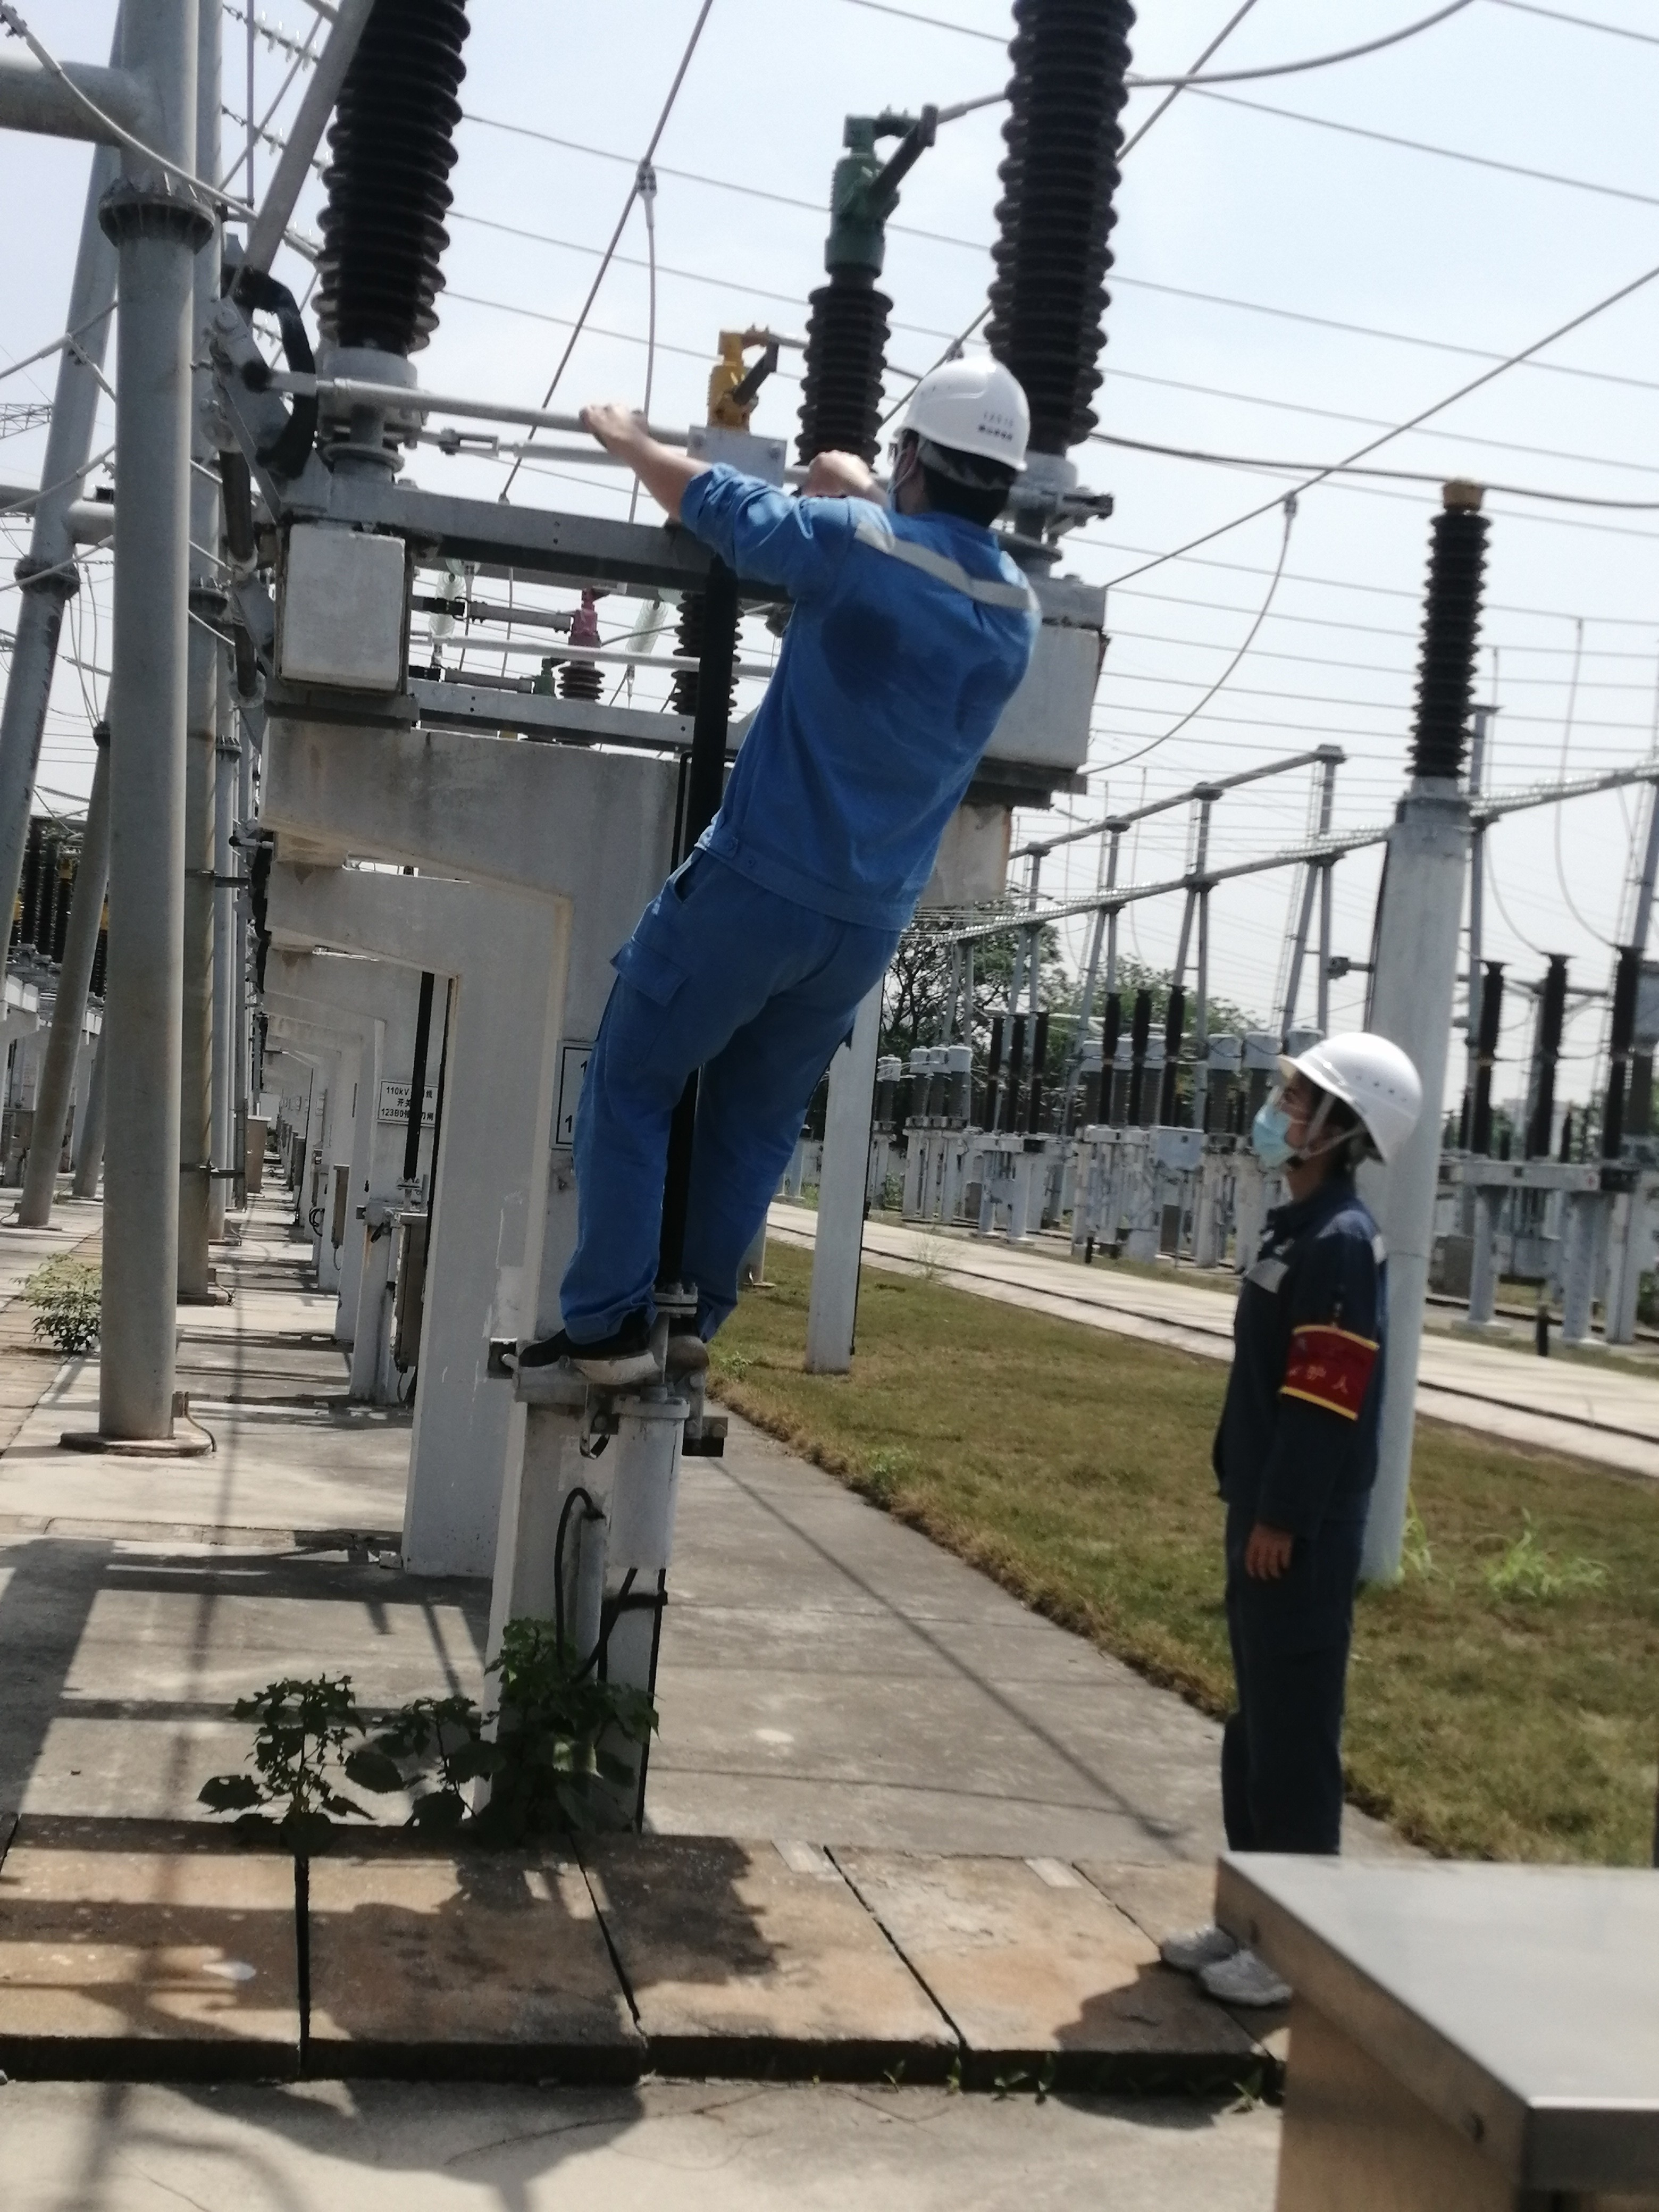downsuit: (552, 909, 908, 1336), (1208, 1543, 1366, 1869)
upsuit: (687, 495, 1046, 913), (1215, 1184, 1399, 1536)
wrongtop: (577, 397, 732, 533)
